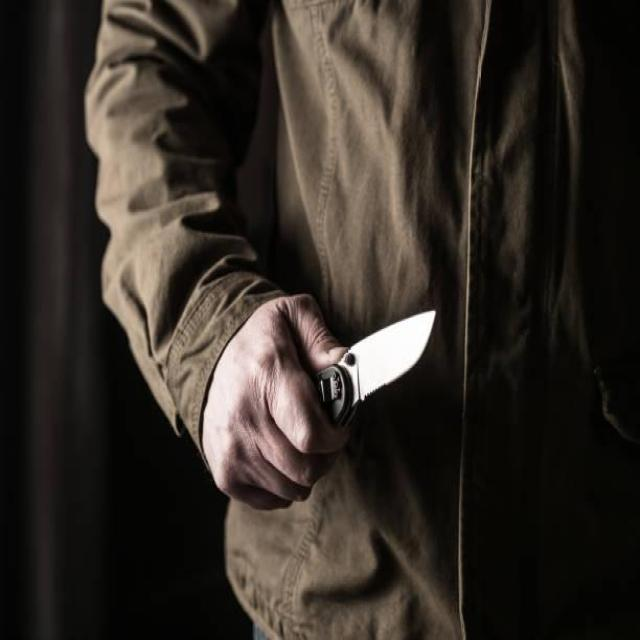faca: (180, 292, 442, 514)
